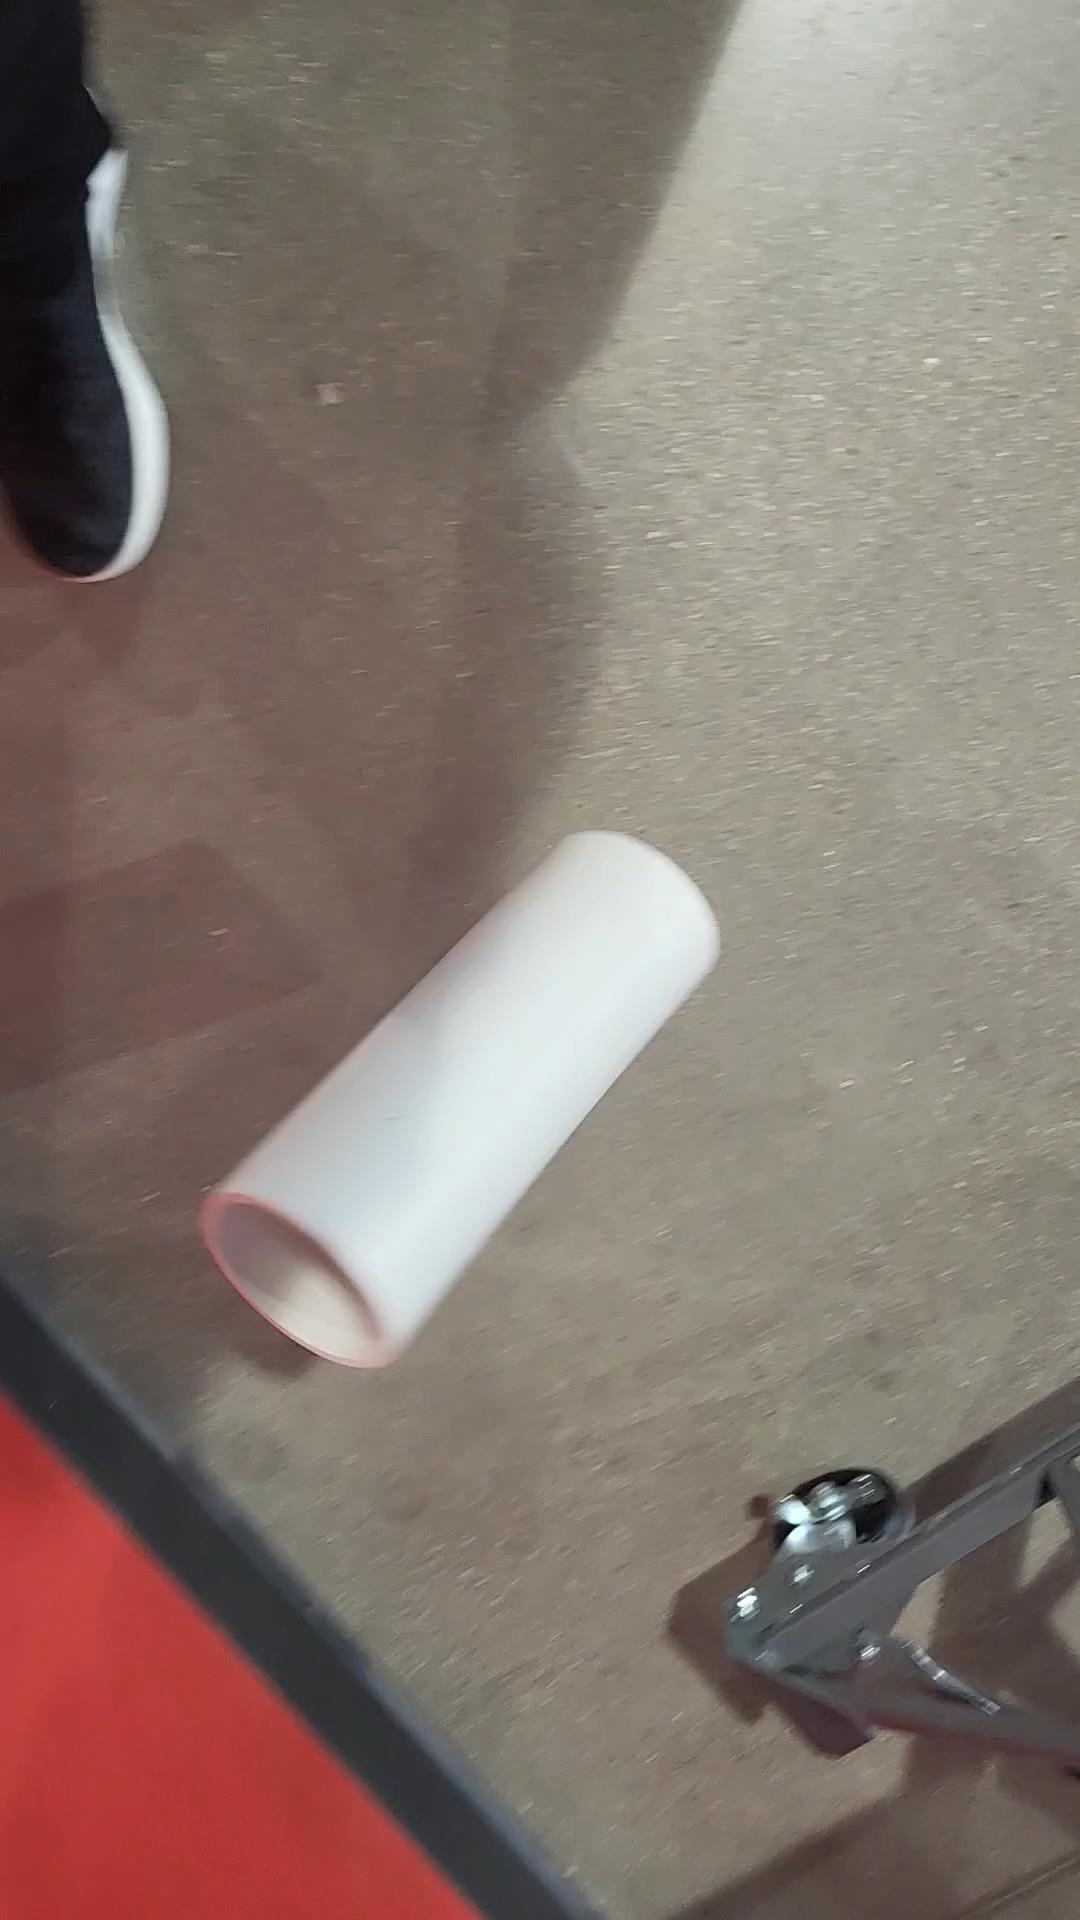coral: (203, 821, 740, 1377)
